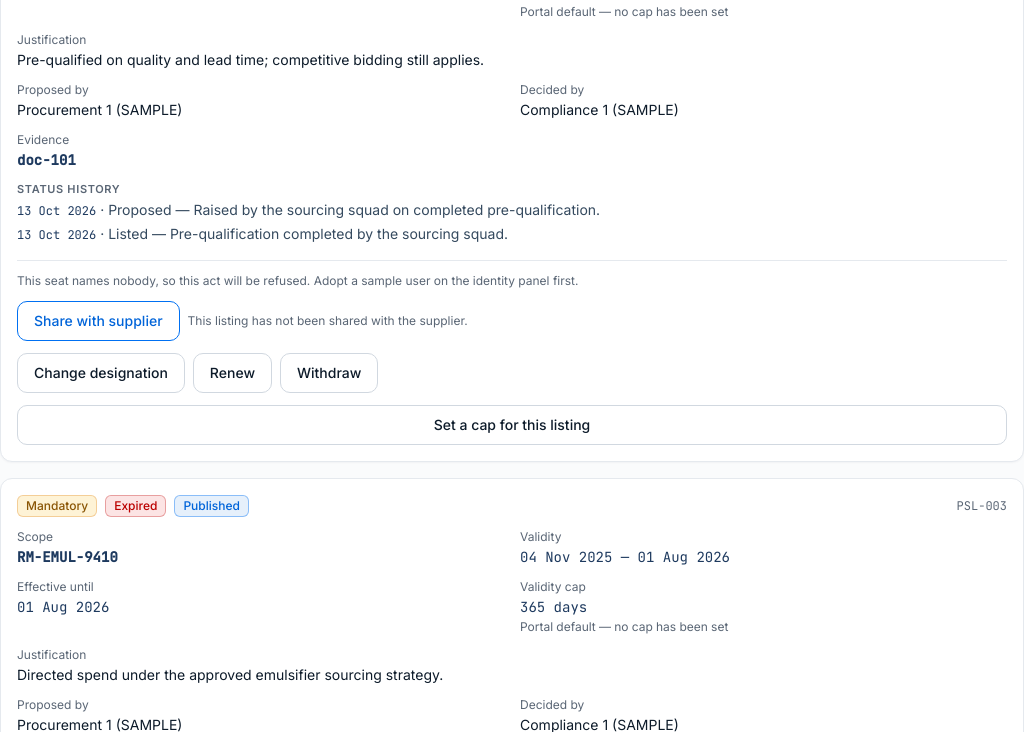
Test case: ⚠️ THE SEAT MIRROR ON A RESTRICTIVE DESIGNATION › a seat holding BOTH authorities cannot commit a change to `Mandatory`
This screenshot has width=1024, height=732.
(page scrolled)
Click the button with test id "psl-open-change-psl-002". click: (101, 373)
box: [17,353,185,393]
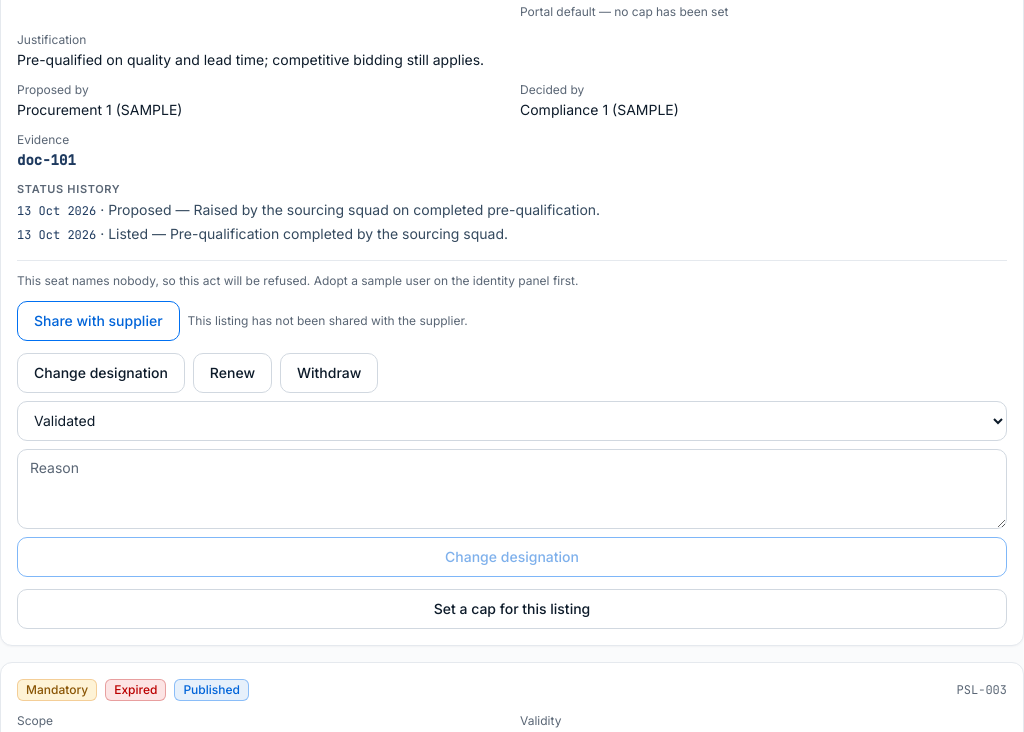
Select "Sole Source" in the dropdown with test id "psl-change-status-psl-002". click: (512, 421)
box: [17,401,1007,441]
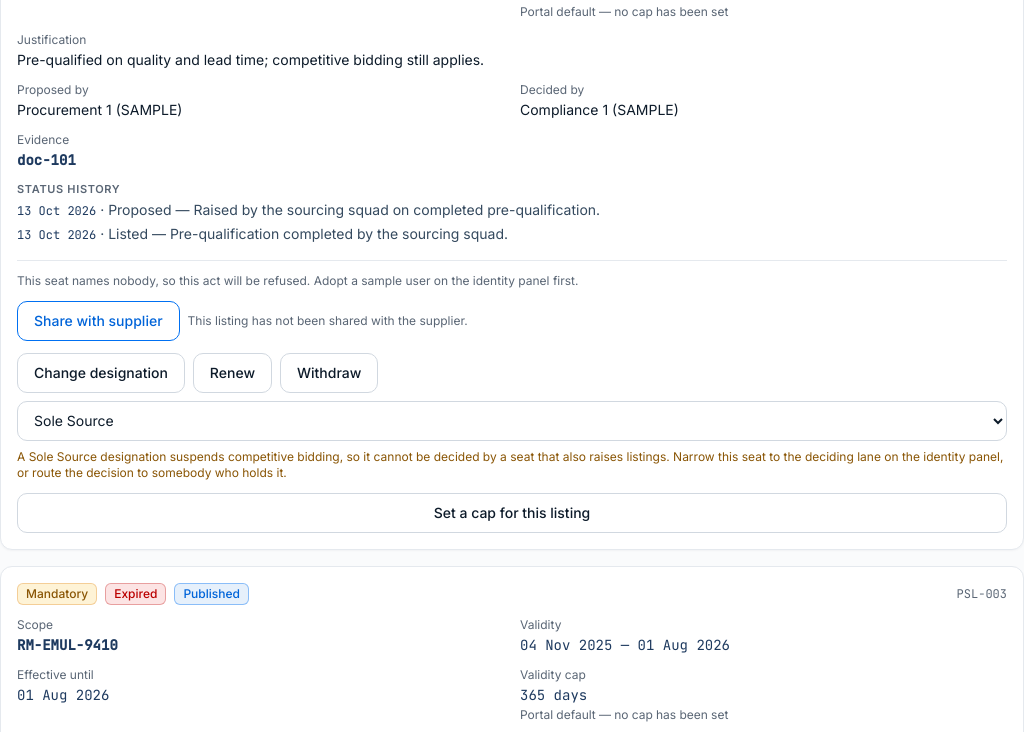
Check: the text with test id "psl-seat-holds-both-psl-002" is shown, box [17,449,1007,481]
Check: the button with test id "psl-commit-change-psl-002" is gone
Select "Validated" in the dropdown with test id "psl-change-status-psl-002". click: (512, 421)
box: [17,401,1007,441]
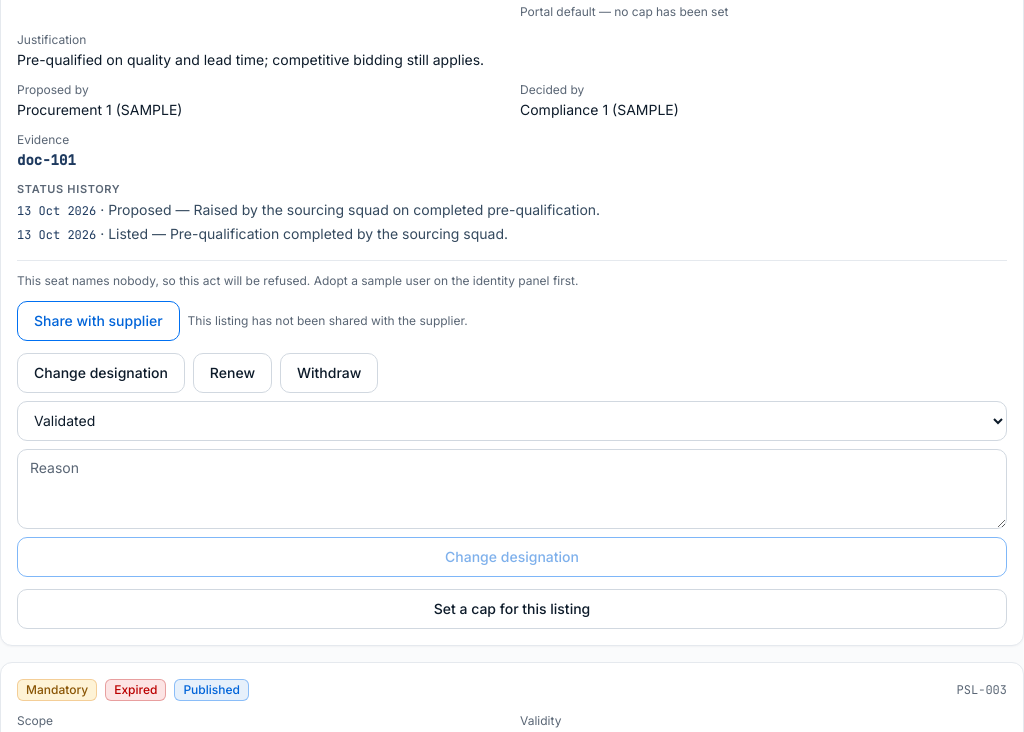
Check: the text with test id "psl-seat-holds-both-psl-002" is gone
Check: the button with test id "psl-commit-change-psl-002" is shown, box [17,537,1007,577]
